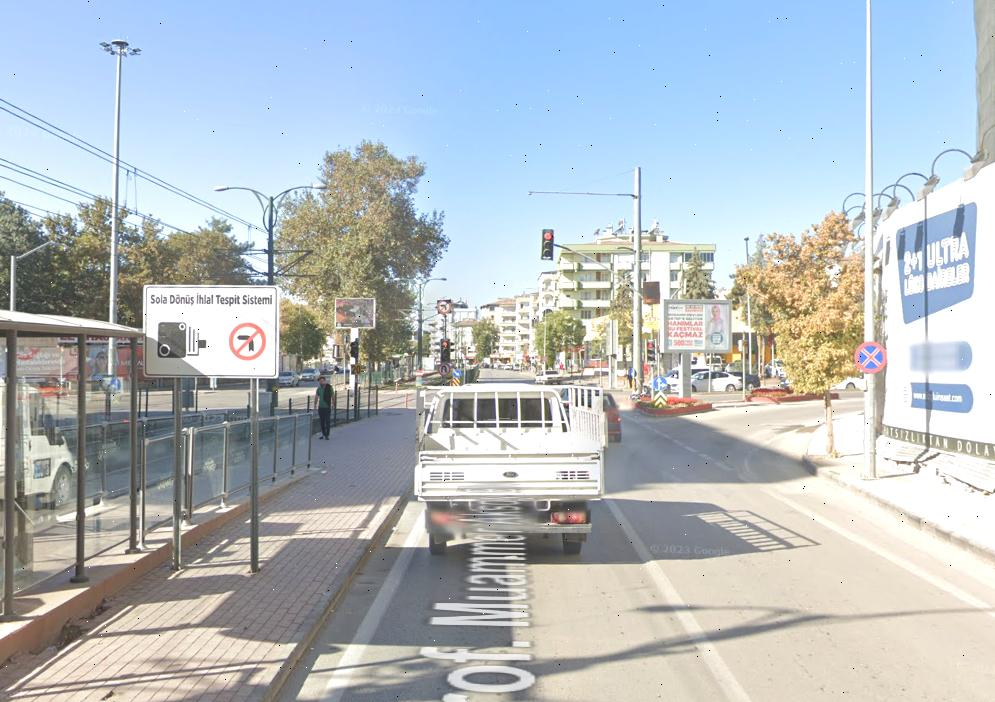leftturnsareforbidden: (230, 322, 265, 359), (437, 300, 451, 314)
redlight: (541, 228, 554, 261), (440, 338, 451, 362), (647, 340, 657, 364)
